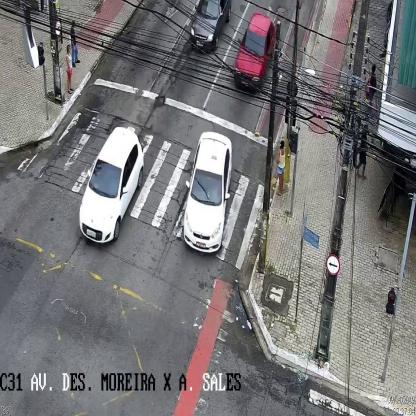car: (78, 126, 144, 244), (181, 130, 232, 254), (233, 13, 275, 94), (190, 0, 233, 55)
person: (366, 63, 377, 118), (357, 126, 368, 178), (69, 20, 80, 68), (276, 140, 285, 197), (66, 44, 74, 92)
